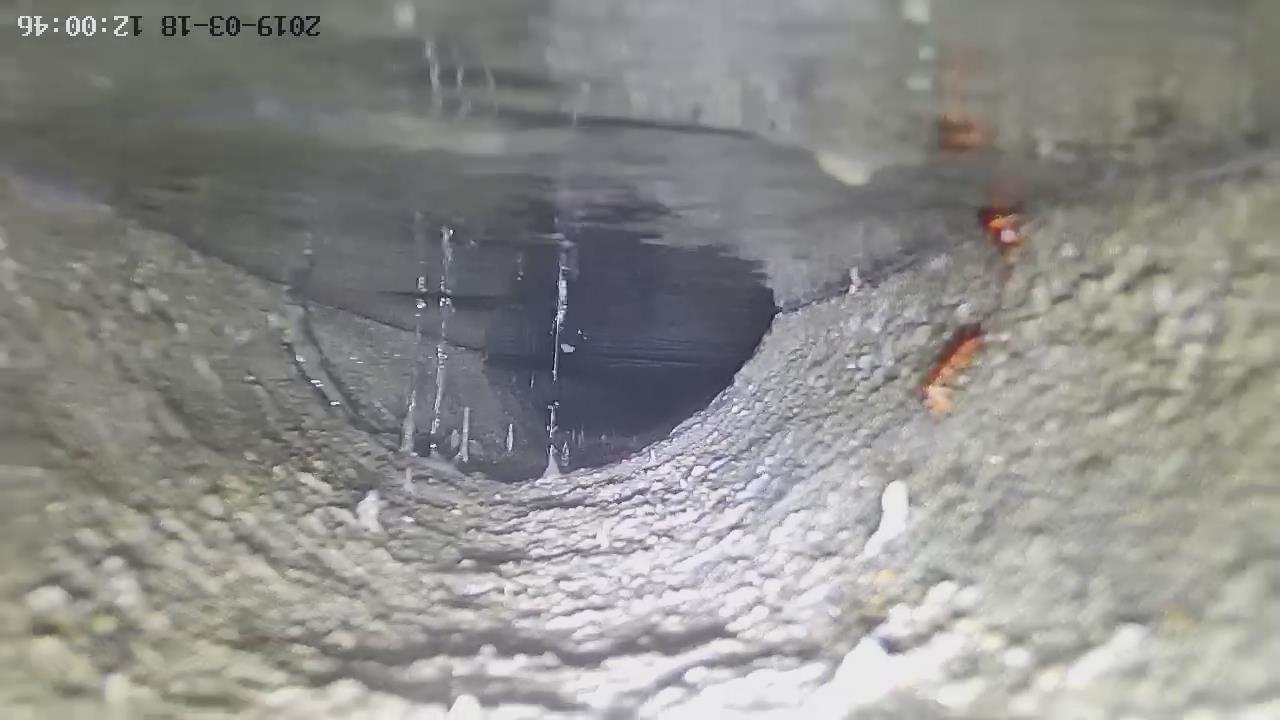JG: (1, 166, 1280, 720)
SL: (372, 262, 578, 491)
